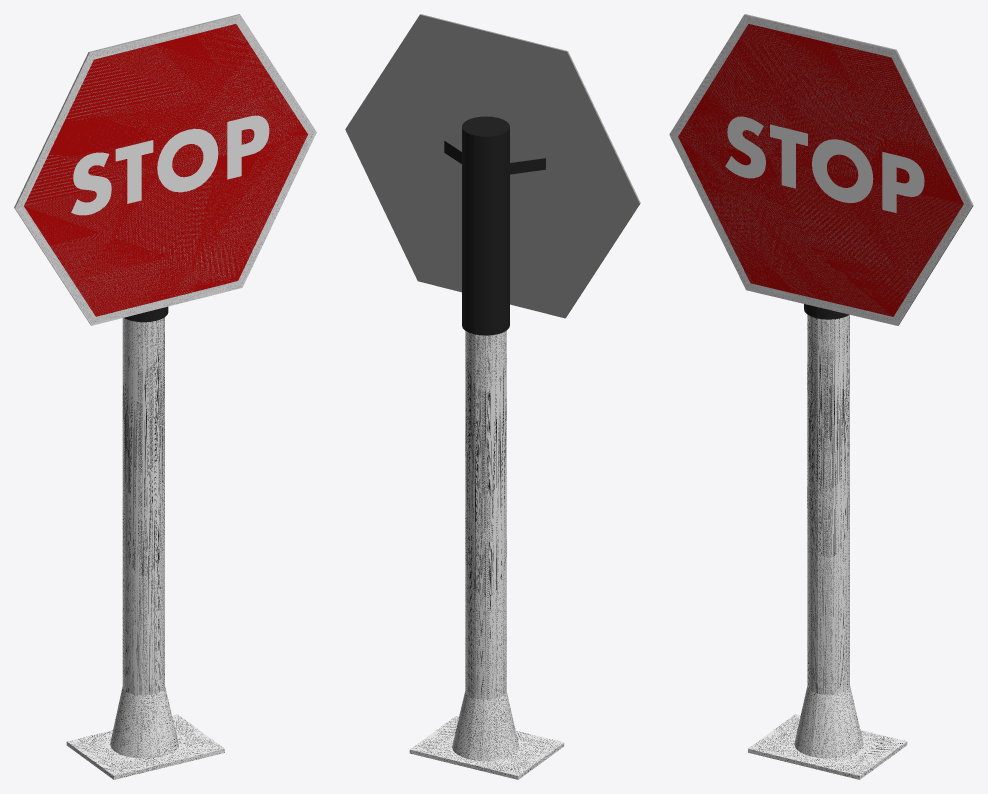
The model's file is stop.dae.
3 views of the same model, side by side, from view 1: azimuth 30°, elevation 25°; view 2: azimuth 150°, elevation 25°; view 3: azimuth 330°, elevation 25° (orthographic). The views are drawn at different scales.
Visible parts, largest first — view 1: group_0 (×4), STOP_4 (×4); view 2: group_0 (×4); view 3: group_0 (×4), STOP_4 (×4).
Part boxes in pixels (x1,y1,x2,y2): group_0 (×4): (14, 14, 316, 779); STOP_4 (×4): (71, 115, 269, 215); group_0 (×4): (345, 14, 640, 779); group_0 (×4): (669, 14, 973, 779); STOP_4 (×4): (725, 116, 924, 212).
Bounding box in the file's own units: 19.87 × 5.38 × 45.57.
